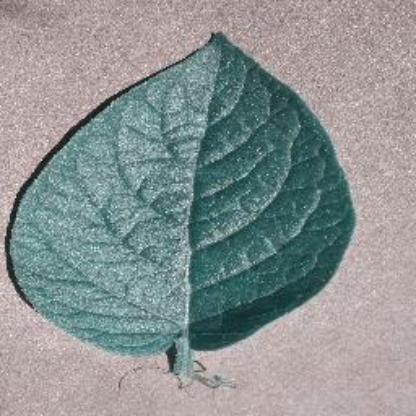Healthy-plant: (8, 31, 360, 381)
